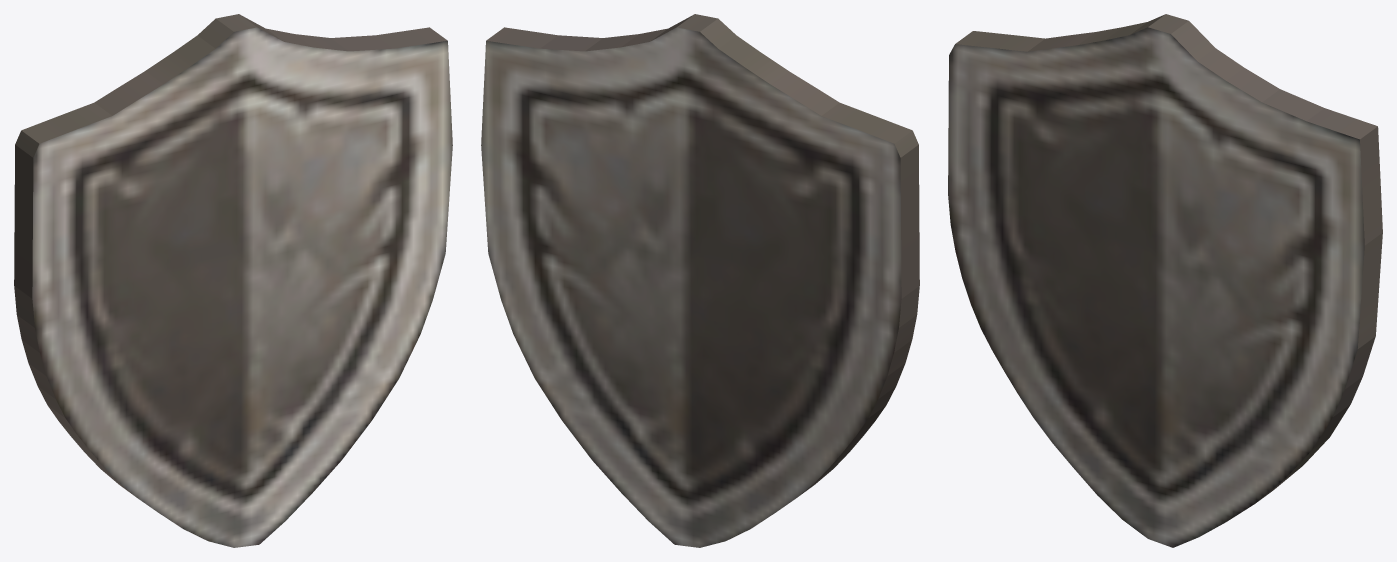
Rendered from Armor.glb.
3 views of the same model, side by side, from view 1: azimuth 30°, elevation 25°; view 2: azimuth 150°, elevation 25°; view 3: azimuth 330°, elevation 25° (orthographic).
Parts seen in each view (by area): view 1: Circle; view 2: Circle; view 3: Circle.
Boxes of the visible parts, x1,y1,x2,y2 form: Circle: (14,14,452,547); Circle: (481,14,919,547); Circle: (948,14,1382,547).
Size of the model in its own units: 1.51 by 1.78 by 0.1135.
1 material, 1 textured.
